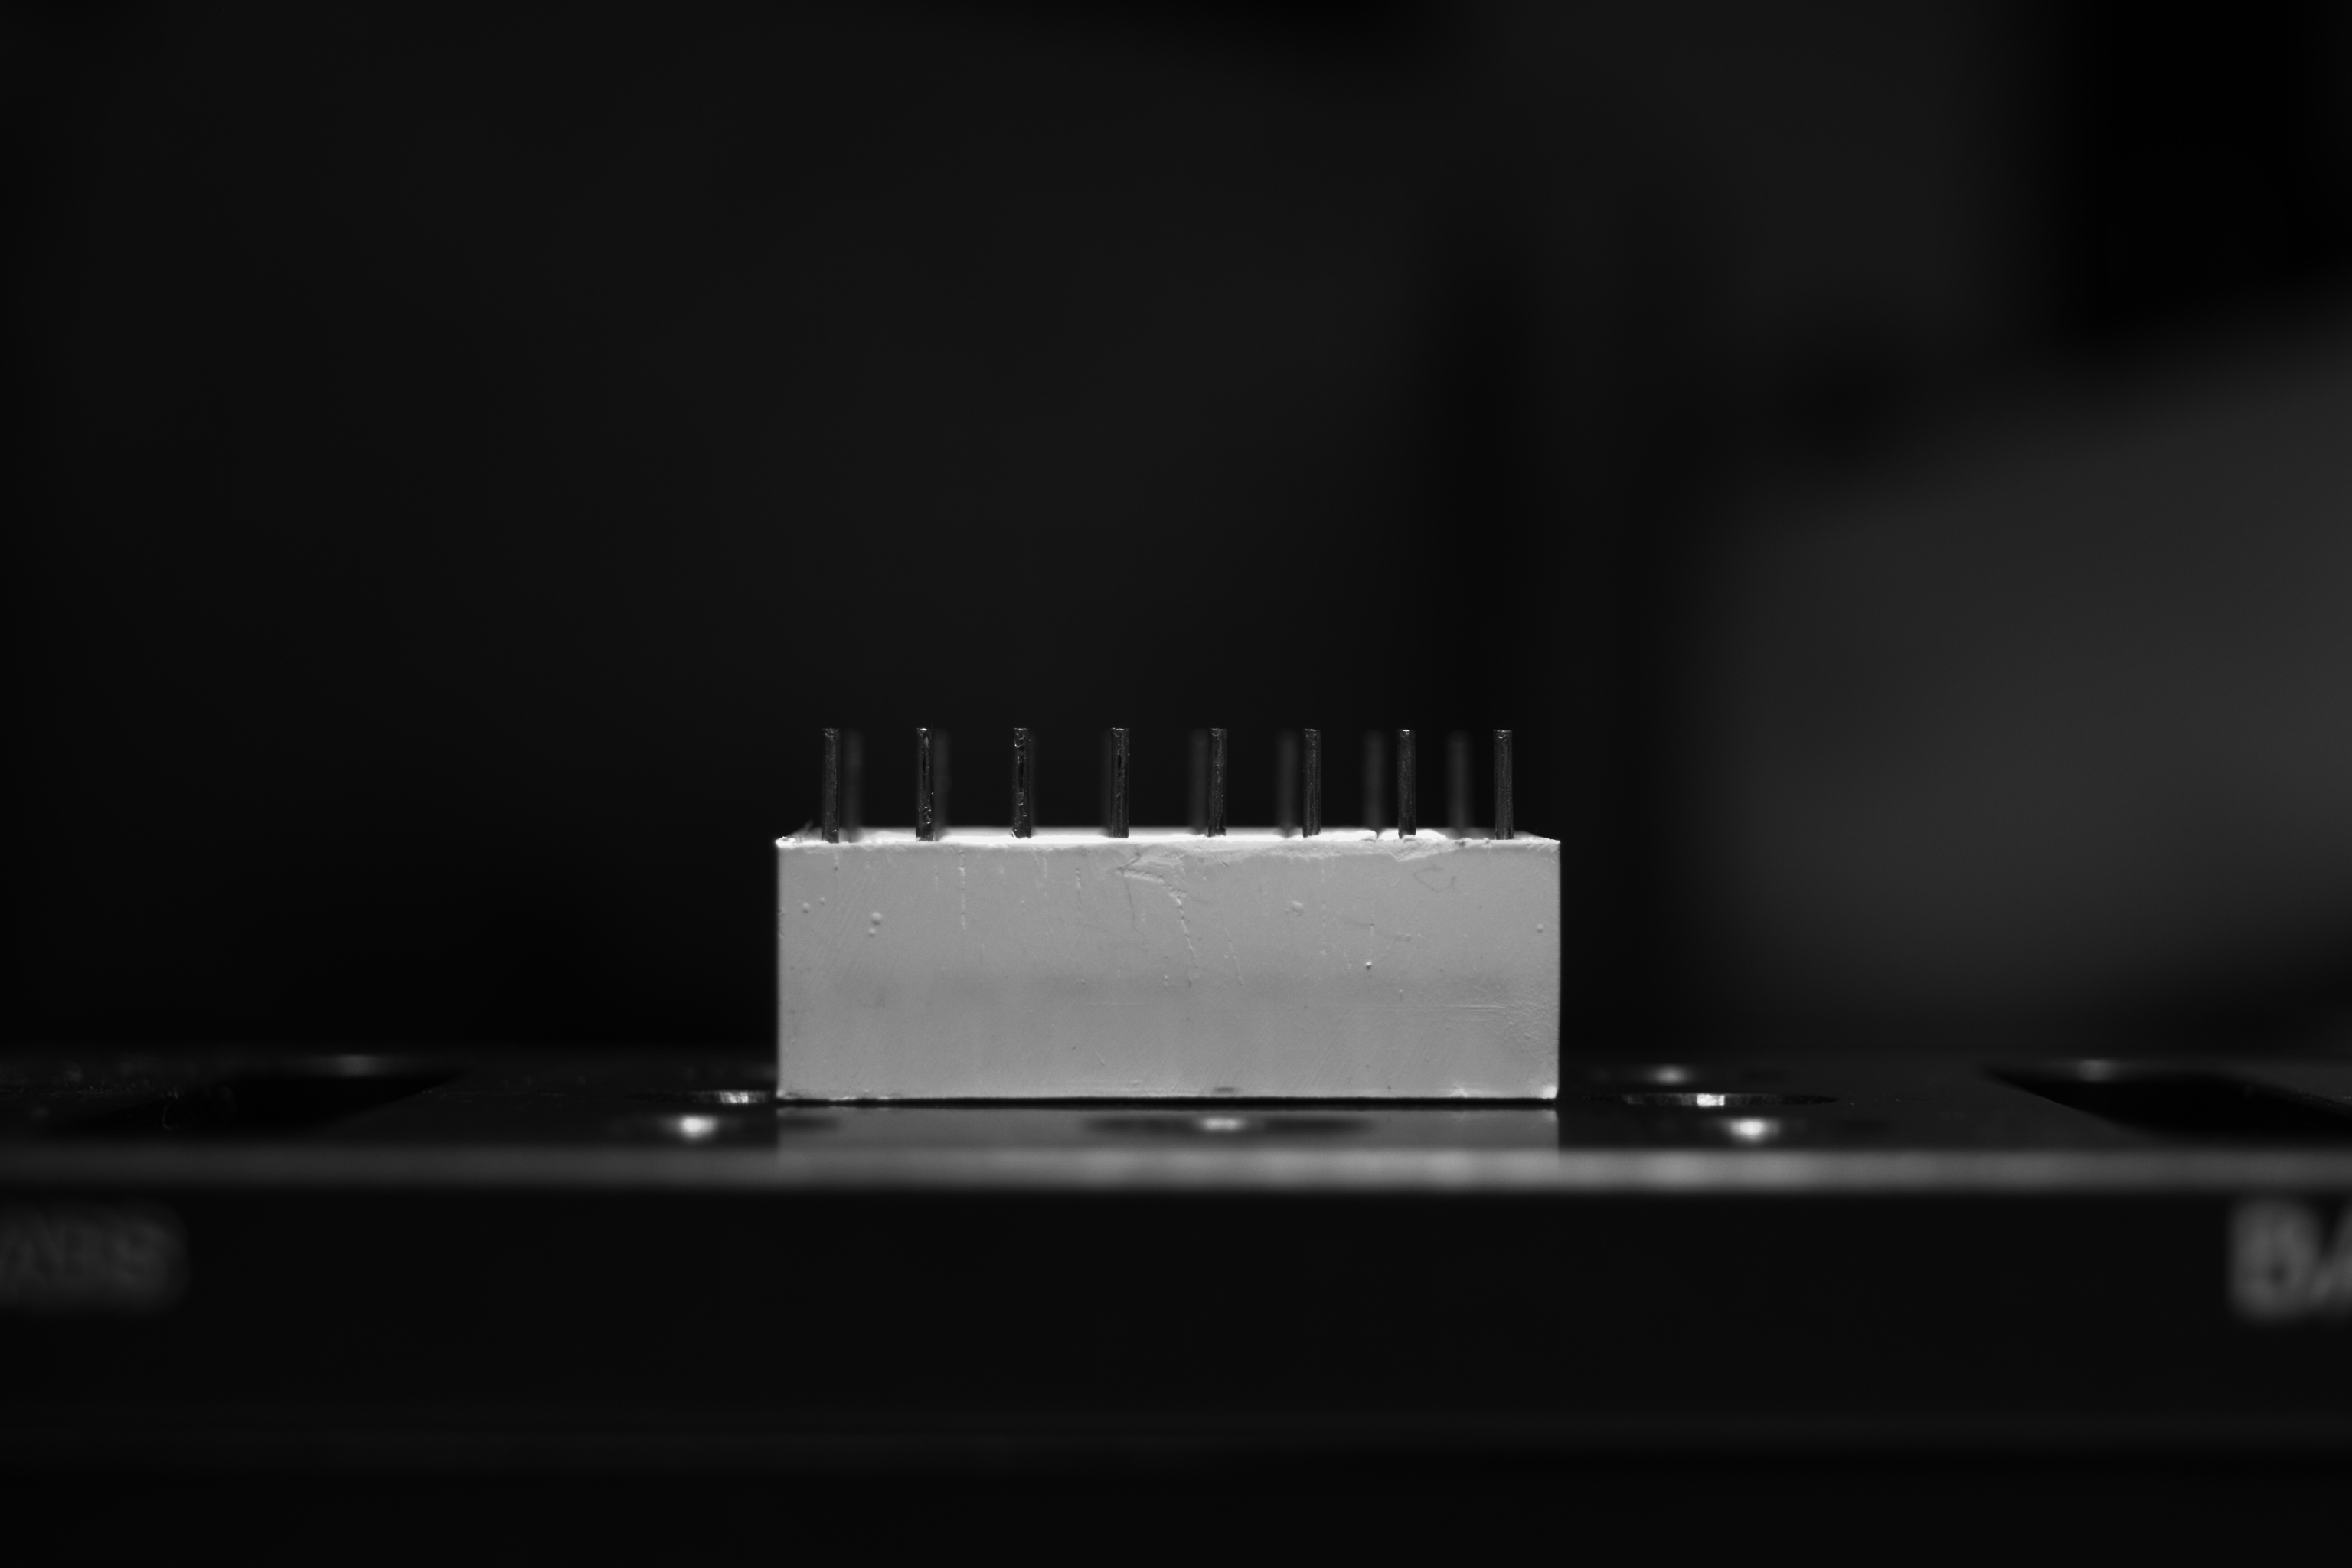glue: (864, 906, 887, 941), (1284, 894, 1309, 920), (1395, 924, 1424, 943), (828, 845, 845, 873), (1519, 1025, 1540, 1048), (1391, 983, 1412, 1001), (798, 896, 814, 917), (1360, 957, 1379, 973), (1092, 1048, 1108, 1067), (1535, 917, 1549, 938), (1160, 971, 1174, 987), (1127, 1076, 1144, 1088), (817, 892, 829, 908), (1423, 1052, 1433, 1064), (1027, 1006, 1036, 1017), (1078, 976, 1087, 987), (863, 1087, 871, 1095), (978, 943, 987, 952)
